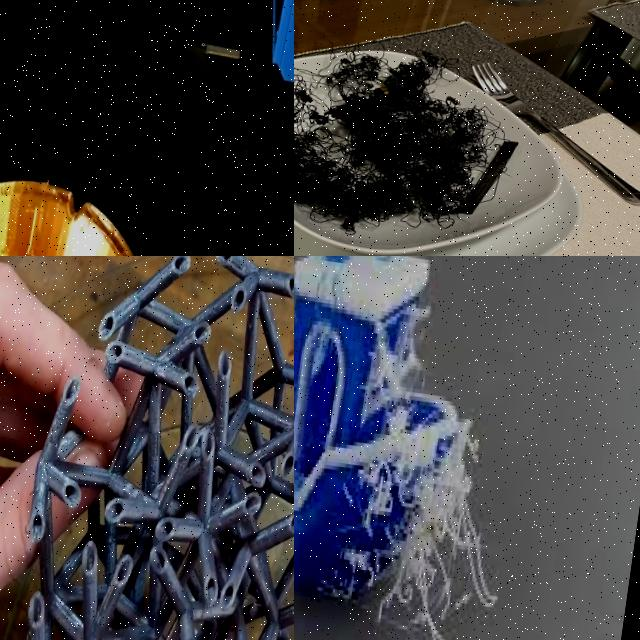spaghetti: (294, 40, 555, 251), (348, 300, 497, 640)
